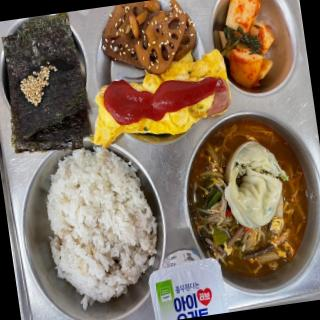Nasi: (35, 143, 150, 310)
